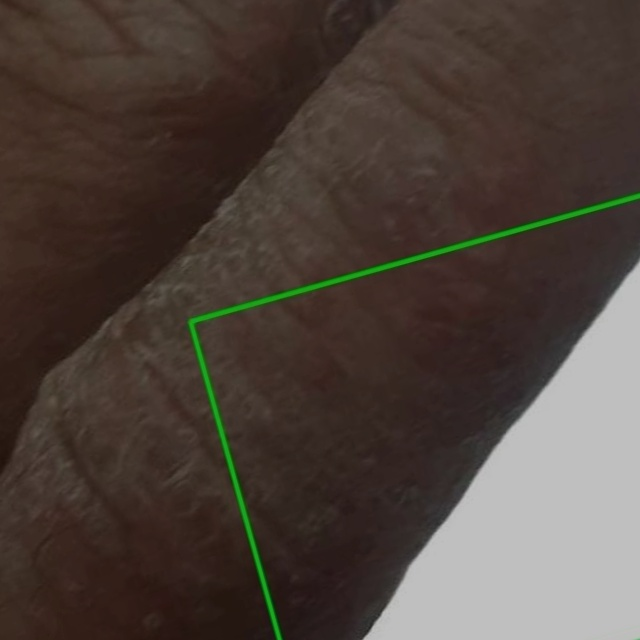Contact Dermatitis: (190, 195, 639, 639)
